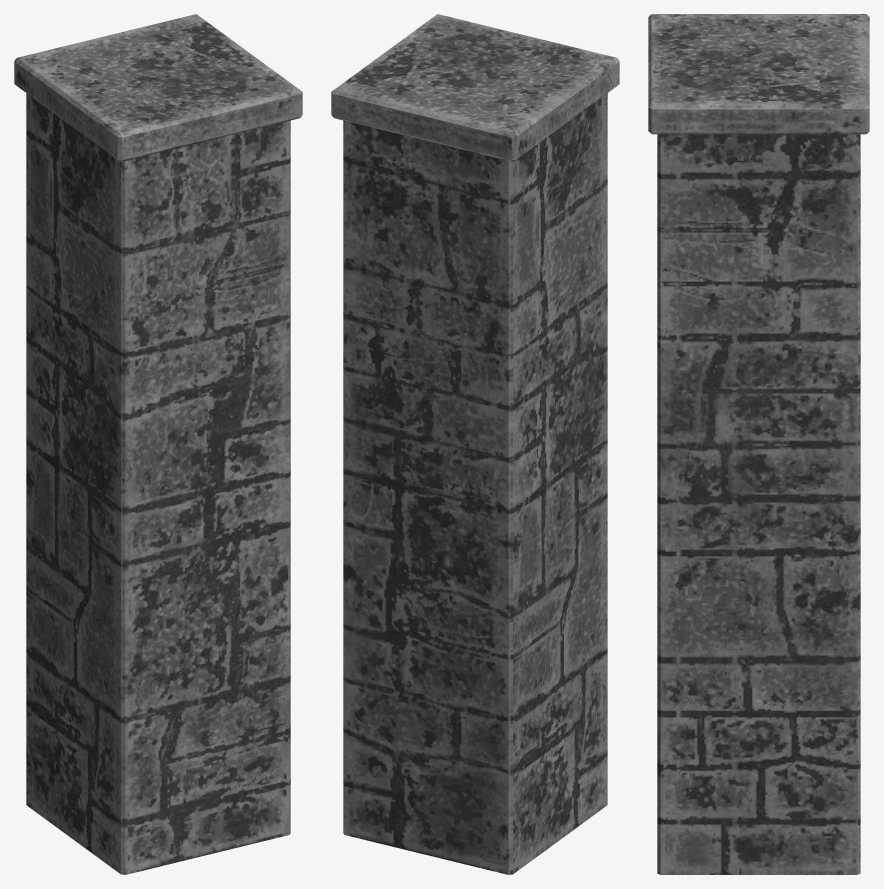
The model's file is column.fbx.
The picture shows the model from 3 angles, left to right: view 1: azimuth 30°, elevation 25°; view 2: azimuth 150°, elevation 25°; view 3: azimuth 270°, elevation 25°; orthographic projection. The views are drawn at different scales.
Visible parts, largest first — view 1: column; view 2: column; view 3: column.
Part boxes in pixels (box(x1,y1,x2,y2)): column: box(14, 14, 302, 874); column: box(331, 14, 619, 874); column: box(648, 14, 869, 874).
Size of the model in its own units: 65.39 by 252 by 65.39.
